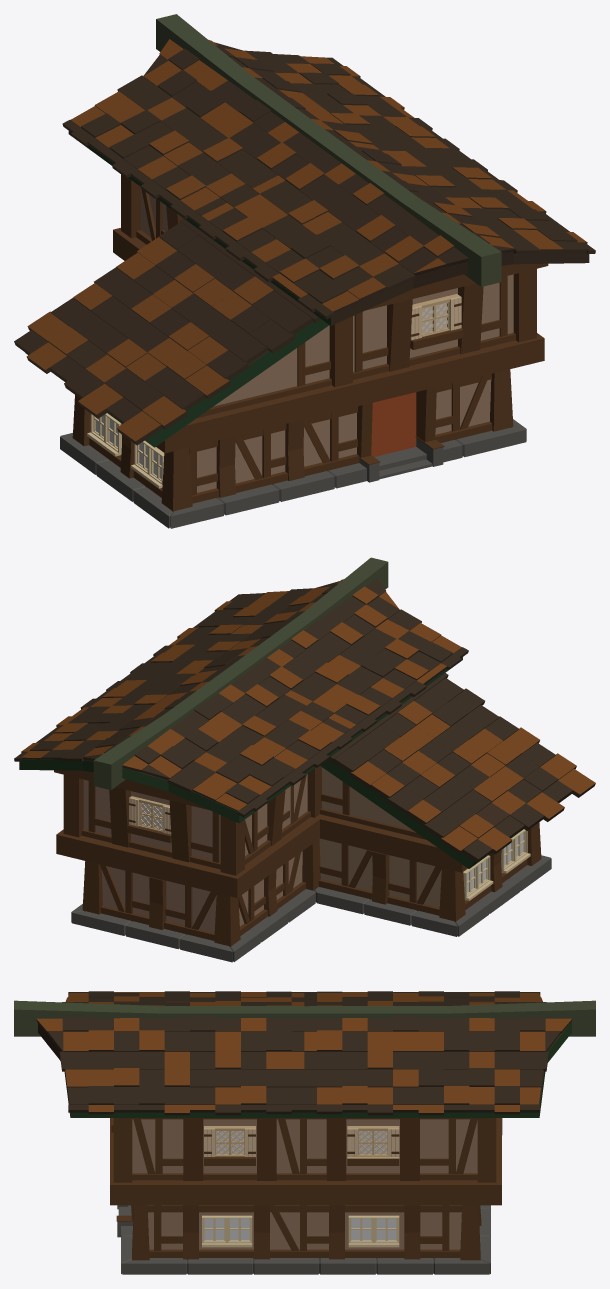
Rendered from SM_Hous_22_B.gltf.
The picture shows the model from 3 angles, top to bottom: view 1: azimuth 30°, elevation 25°; view 2: azimuth 150°, elevation 25°; view 3: azimuth 270°, elevation 25°; orthographic projection. The views are drawn at different scales.
Visible parts, largest first — view 1: SM_Hous_22_B; view 2: SM_Hous_22_B; view 3: SM_Hous_22_B.
Part boxes in pixels (x1,y1,x2,y2): SM_Hous_22_B: (14, 14, 595, 528); SM_Hous_22_B: (14, 557, 595, 962); SM_Hous_22_B: (14, 991, 595, 1274).
Bounding box in the file's own units: 12.31 × 6.77 × 15.56.
